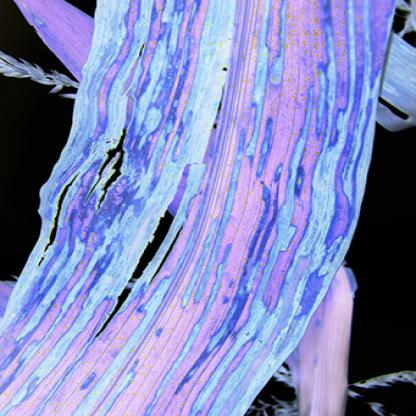corn leaf blight: (7, 4, 406, 415)
